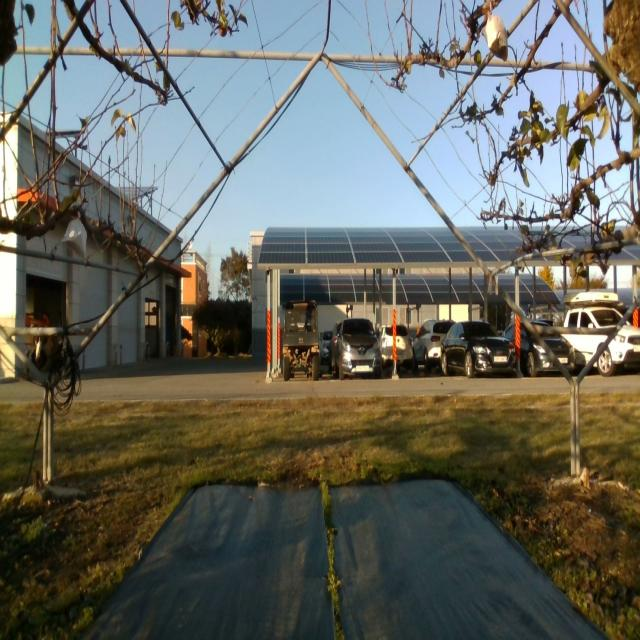pearbags: (61, 212, 87, 264), (486, 2, 508, 60)
